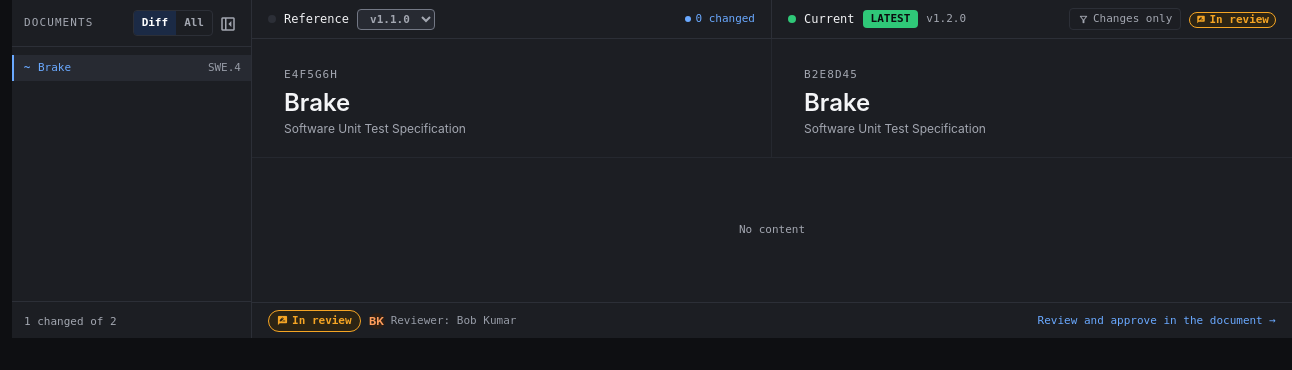
Scenario: ComparePage: the linked document, the reference, the change marks › the reference is the version before by default, and any older one can be picked
This screenshot has width=1292, height=370.
Select "v1.0.0" in the dropdown named "Reference version": (396, 19) top-left (357, 8), bottom-right (435, 30)
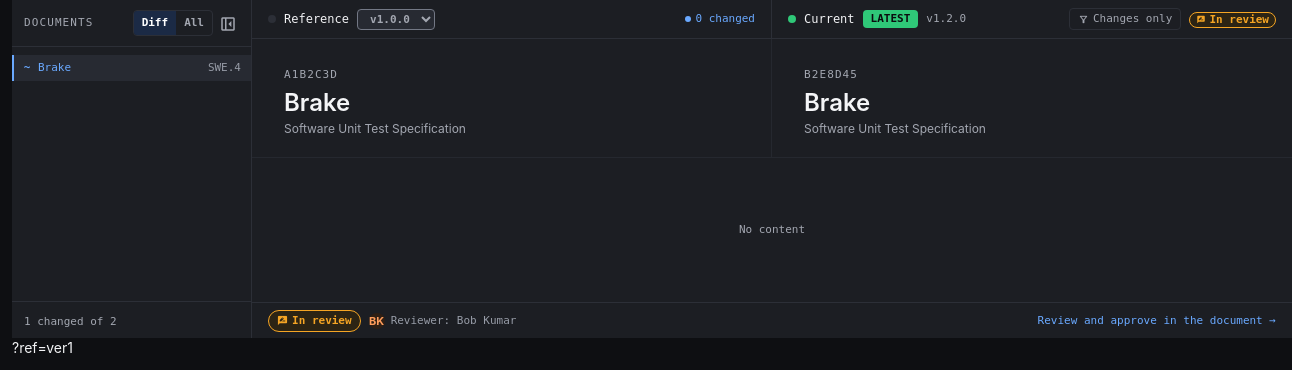
Expected: the dropdown named "Reference version" shows "v1.0.0", top-left (357, 8), bottom-right (435, 30)
